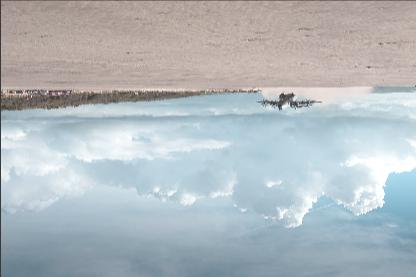A400M: (255, 92, 325, 111)
